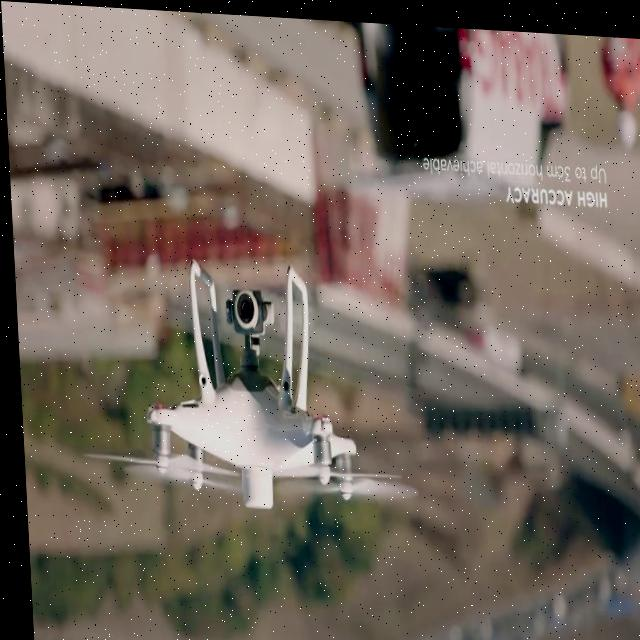drone: (67, 244, 415, 517)
